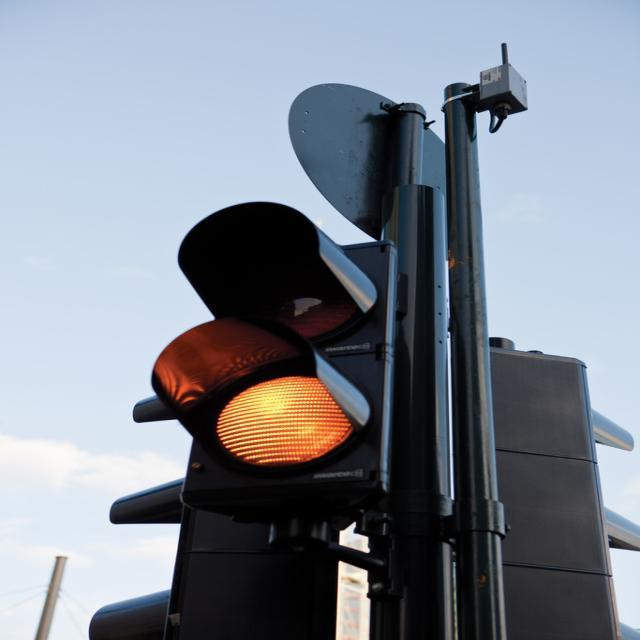off traffic light: (85, 393, 336, 640)
traffic light: (141, 197, 402, 545)
